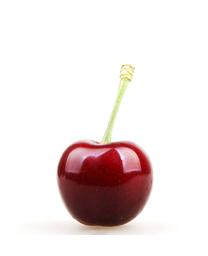cherry: (57, 141, 154, 228)
